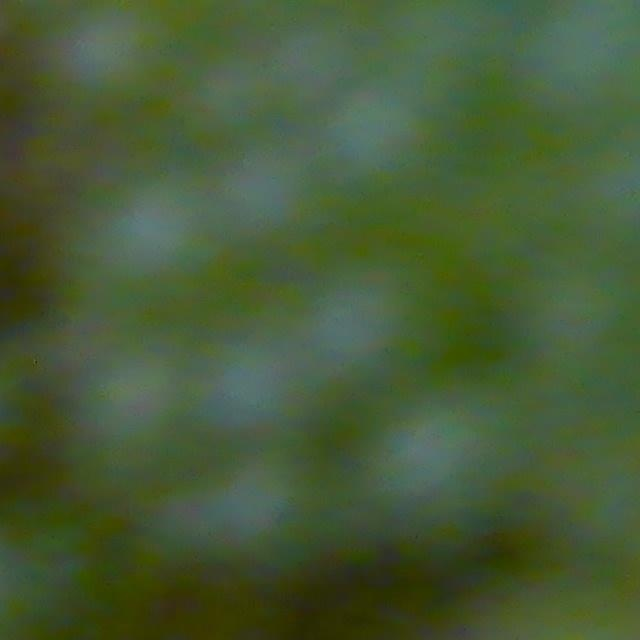SeaGrape: (358, 409, 515, 545), (284, 261, 416, 399), (77, 169, 201, 309), (67, 349, 205, 472), (48, 0, 176, 113), (187, 334, 309, 449), (196, 138, 296, 249), (307, 91, 411, 191)
